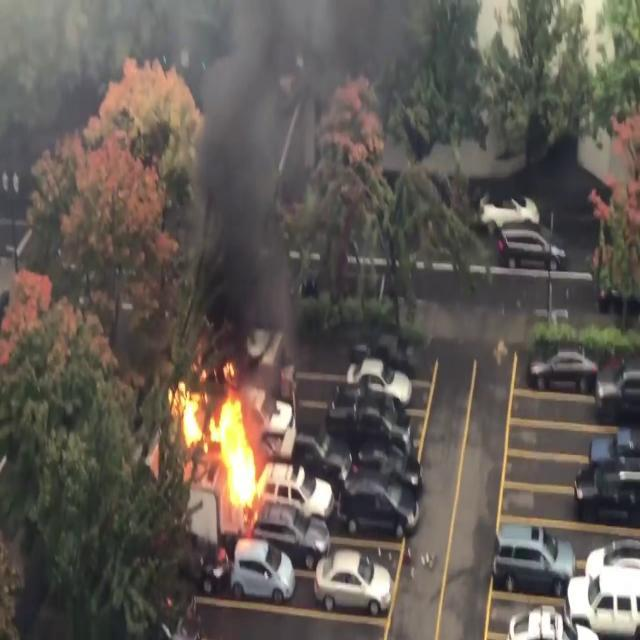Fire: (170, 354, 276, 514)
Smoke: (172, 0, 525, 343), (171, 1, 410, 337)
